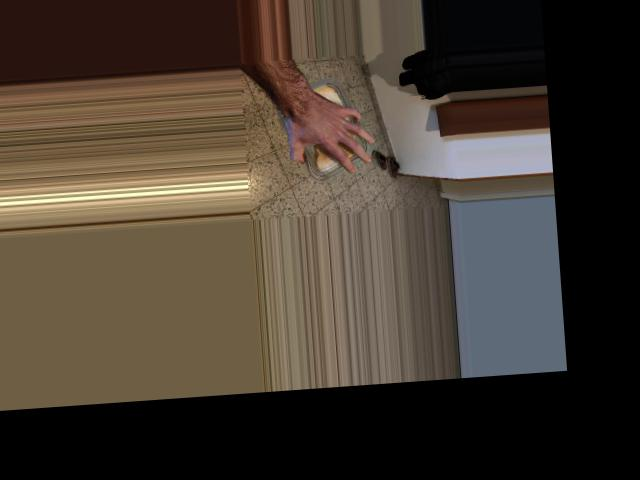cheese: (276, 79, 374, 179)
